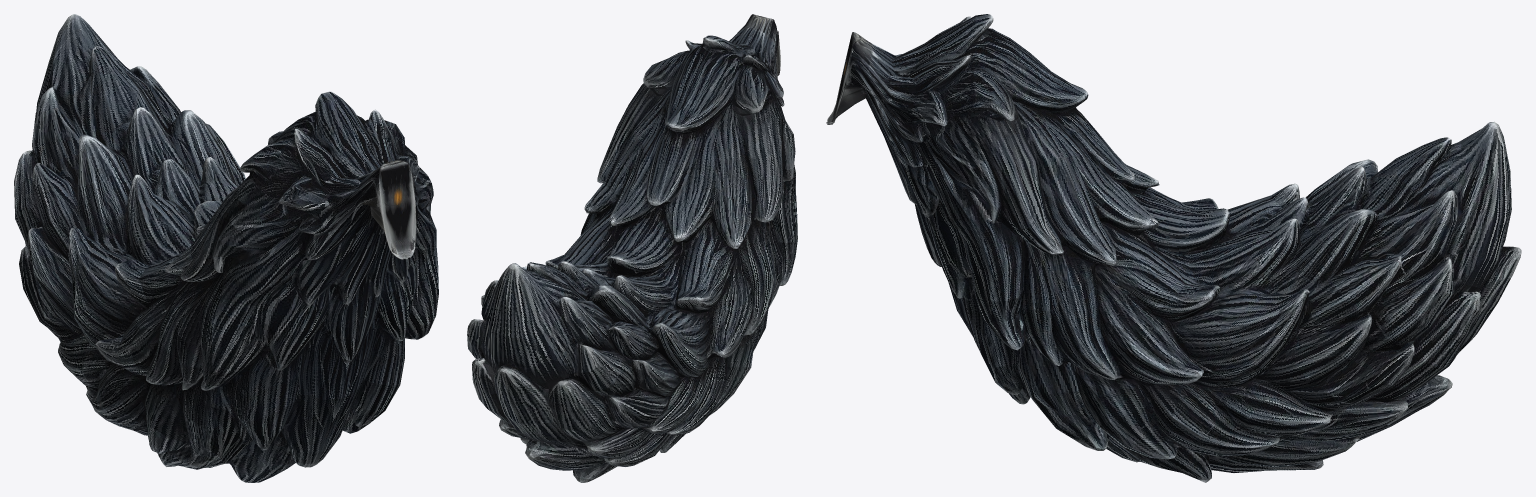
File: ewm_wolftail_fura.glb
The picture shows the model from 3 angles, left to right: view 1: azimuth 30°, elevation 25°; view 2: azimuth 150°, elevation 25°; view 3: azimuth 270°, elevation 25°; orthographic projection. The views are drawn at different scales.
Parts seen in each view (by area): view 1: ewm_wolftail_fura; view 2: ewm_wolftail_fura; view 3: ewm_wolftail_fura.
Boxes of the visible parts, <box> form: ewm_wolftail_fura: <box>14,14,438,482</box>; ewm_wolftail_fura: <box>467,14,797,482</box>; ewm_wolftail_fura: <box>826,14,1521,482</box>.
Size of the model in its own units: 0.2279 by 0.3947 by 0.55.
Materials: 1 (1 with a texture image).
